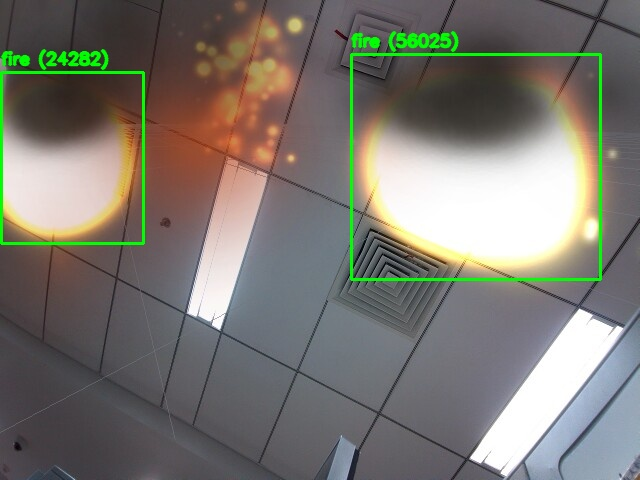fire: (351, 54, 600, 279), (1, 72, 143, 243)
